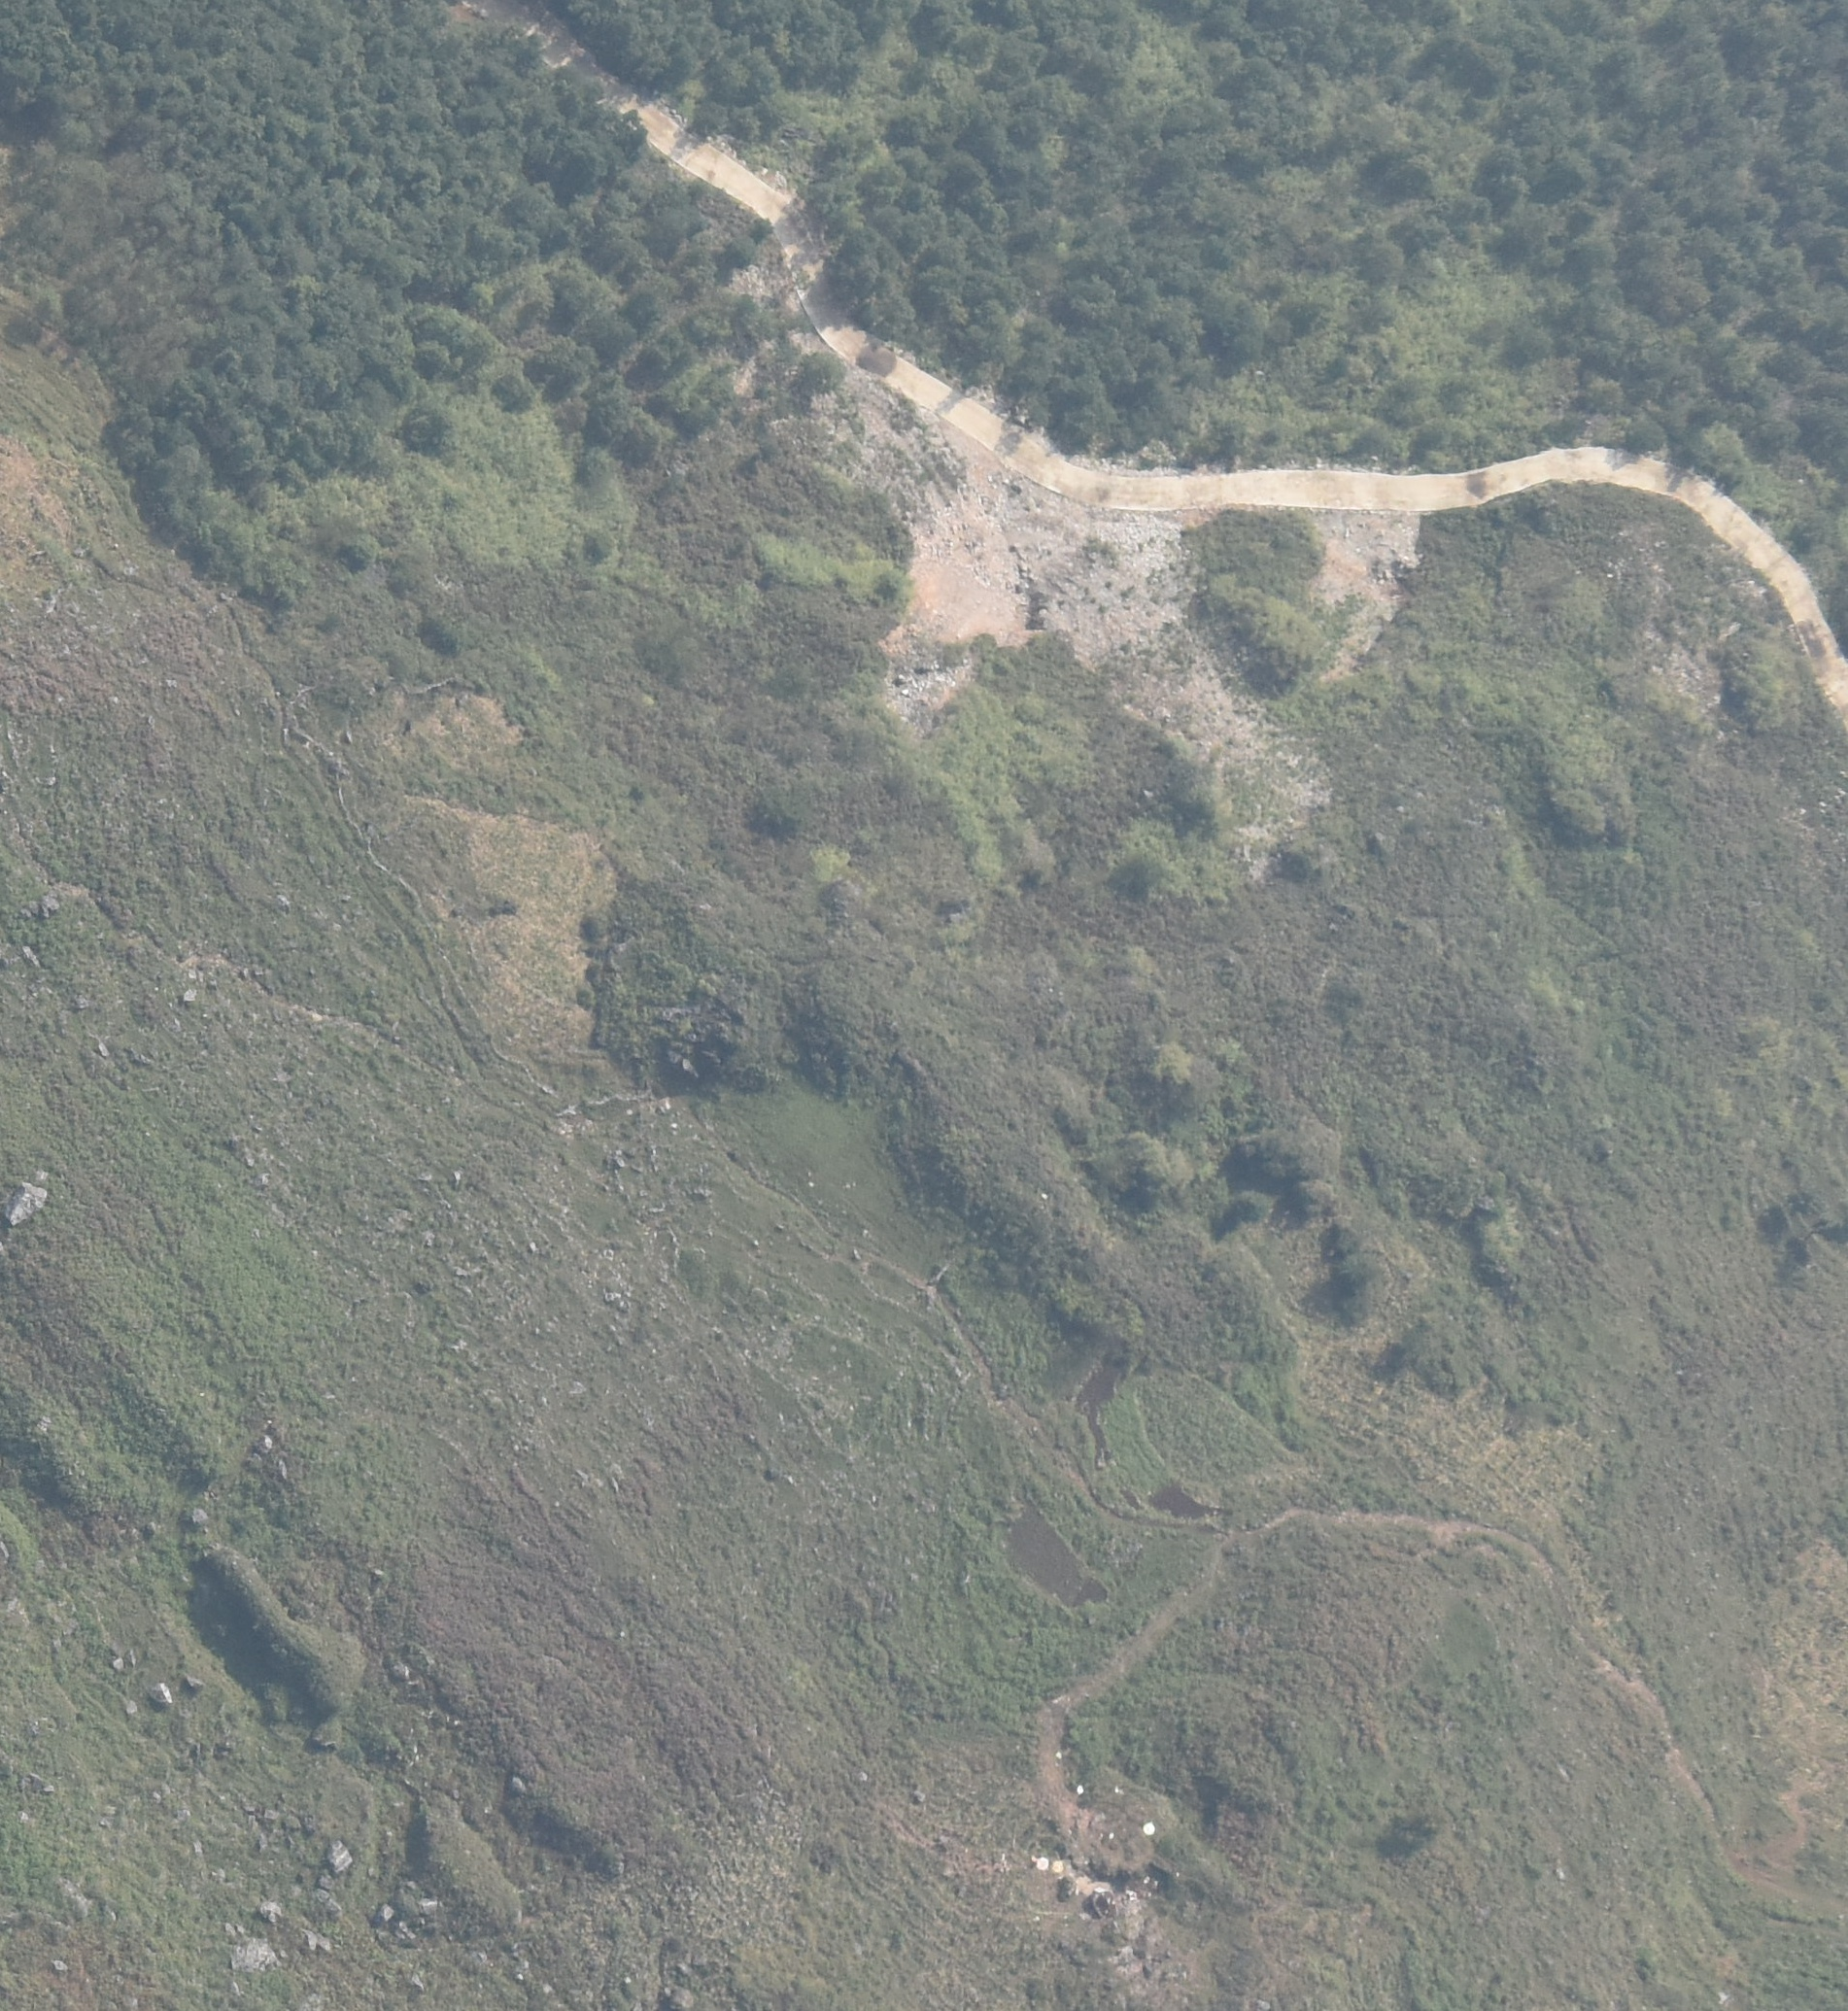quarry: (834, 420, 1446, 827)
